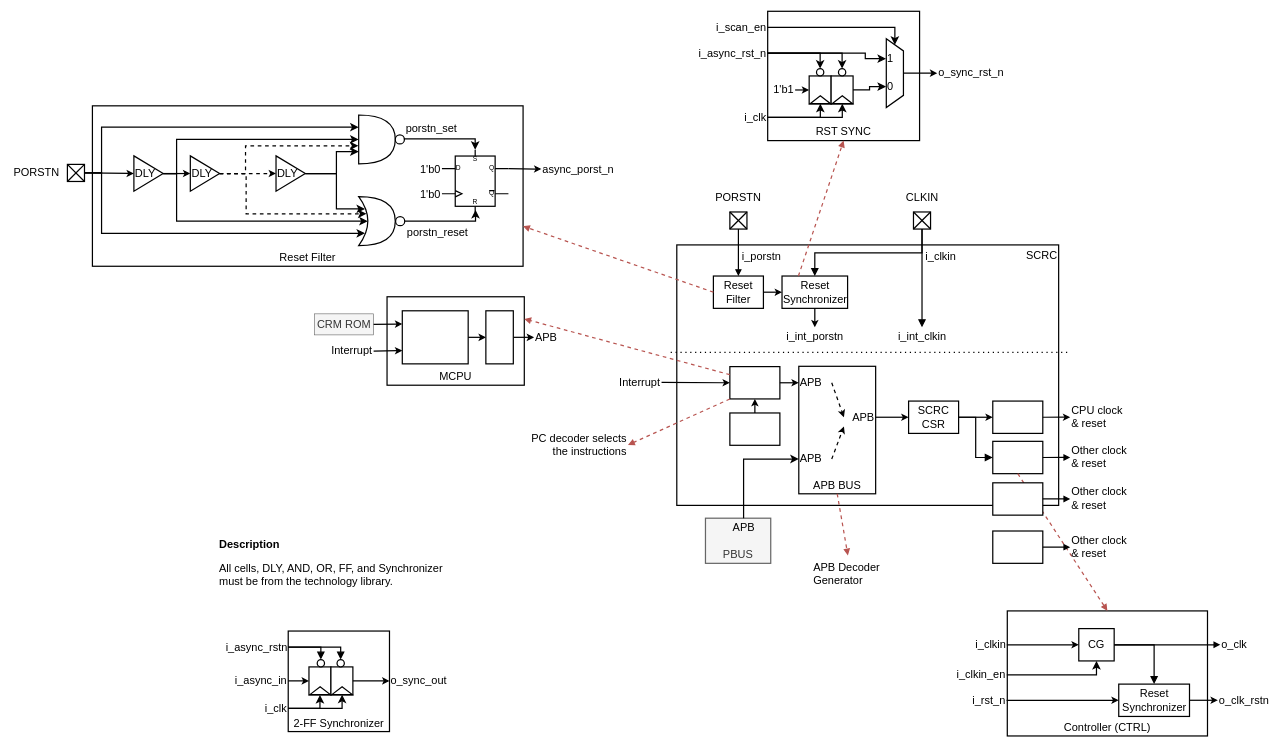
The diagram is 1285 pixels wide and 747 high, and some of its shapes have lost their labels. Each missing label, with the centre of its shape:
BIU: point 499,337
CPU CTRL: point 1017,417
RISC-V CPU (MRV): point 434,337
ROM: point 754,429
Small CPU: point 754,382
SPI: point 1017,498
System CTRL: point 1017,547
UART: point 1017,457
